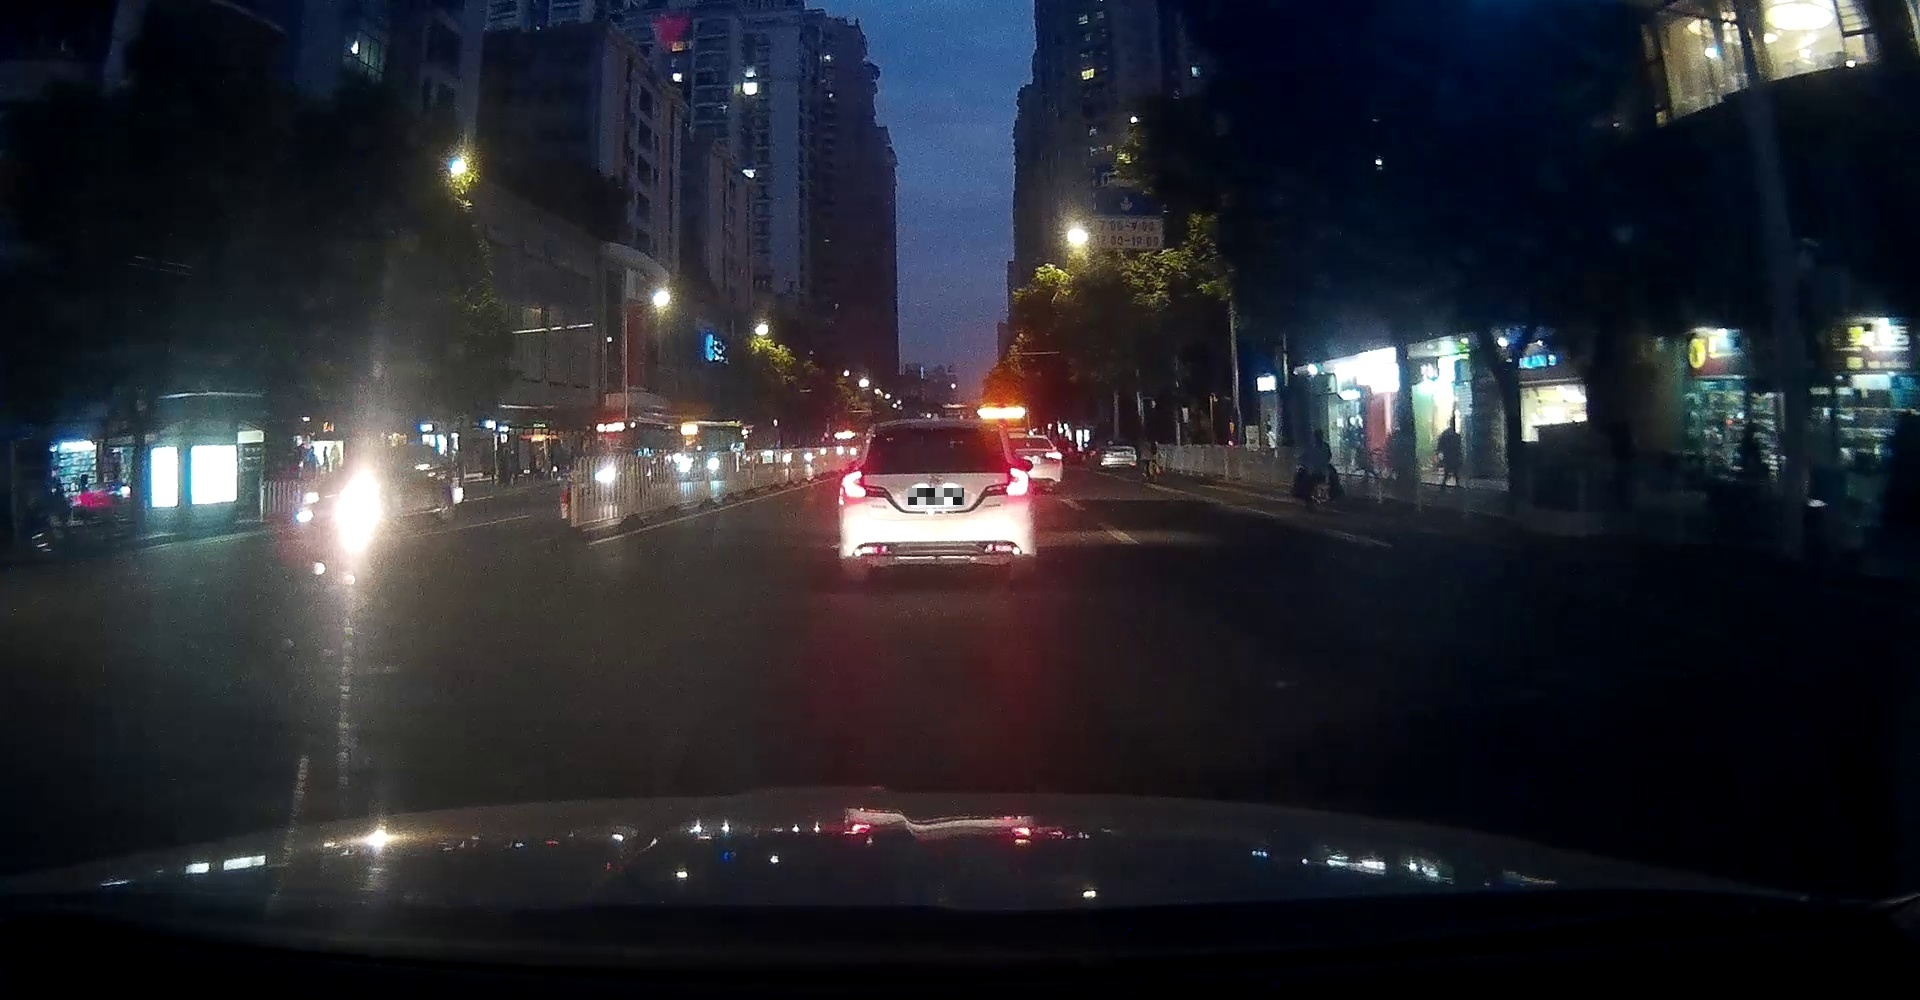L_light: (841, 470, 866, 497)
R_light: (1006, 467, 1029, 497)
T_light: (919, 424, 950, 431)
night-no: (837, 419, 1037, 576)
plate_1: (908, 489, 964, 505)
